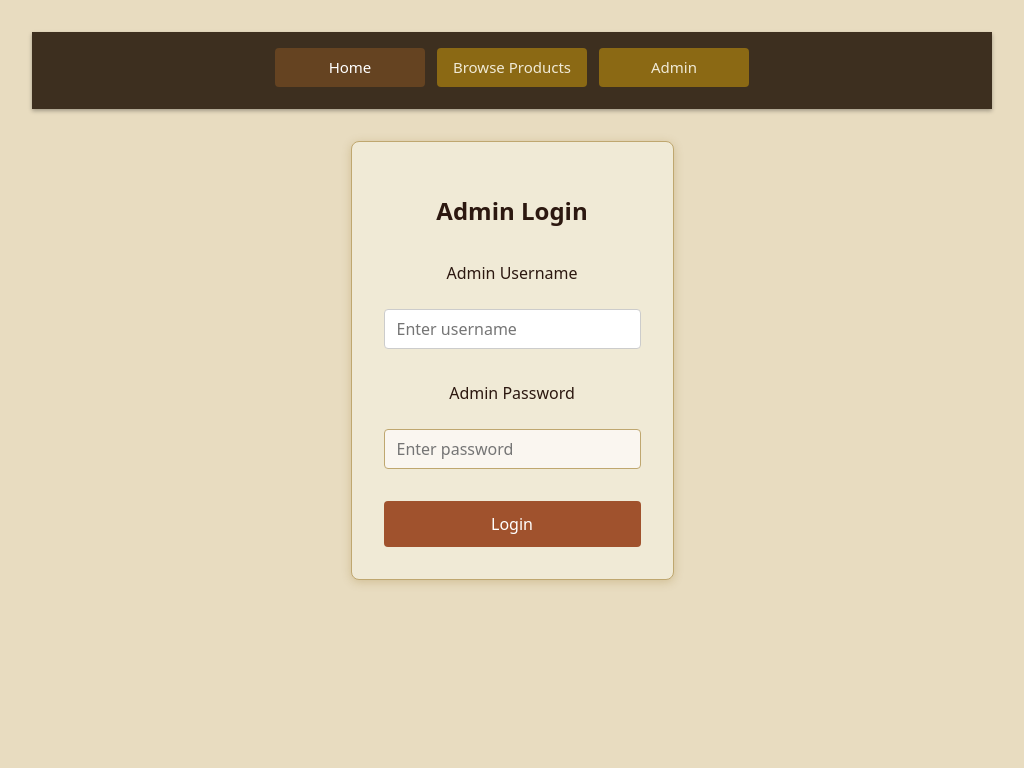
it: Admin Login › should logout and redirect to home page
This screenshot has width=1024, height=768.
Type "admin" into the field with placeholder "Enter username" at x=512, y=329, box [384,309,640,349]
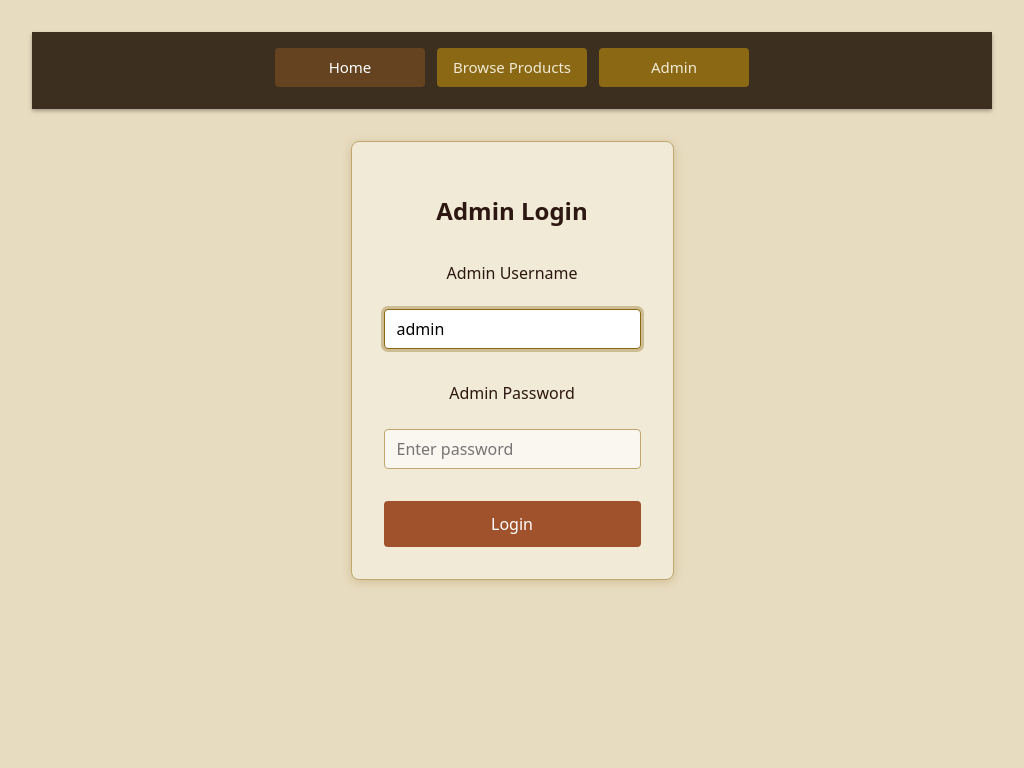
Type "password123" into the password field with placeholder "Enter password" at x=512, y=449, box [384,429,640,469]
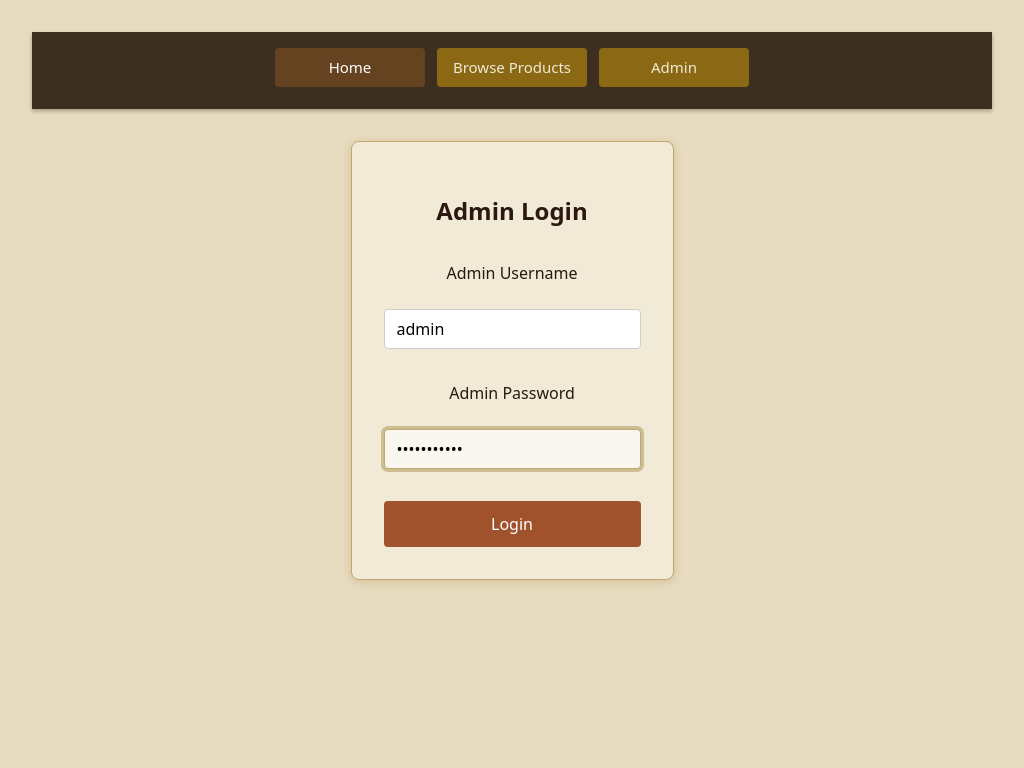
Click the button "Login" at x=512, y=524, box [384,501,640,547]
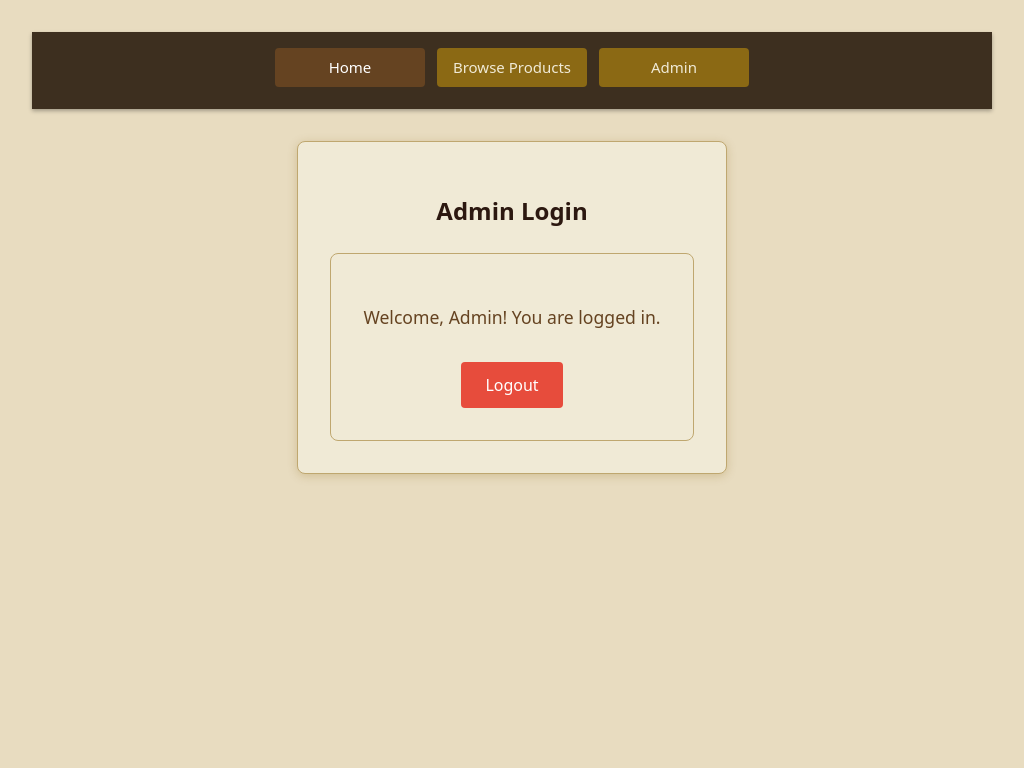
Result: the button "Logout" is shown
Note: Click logout
Click the button "Logout" at x=512, y=385, box [461,362,563,408]
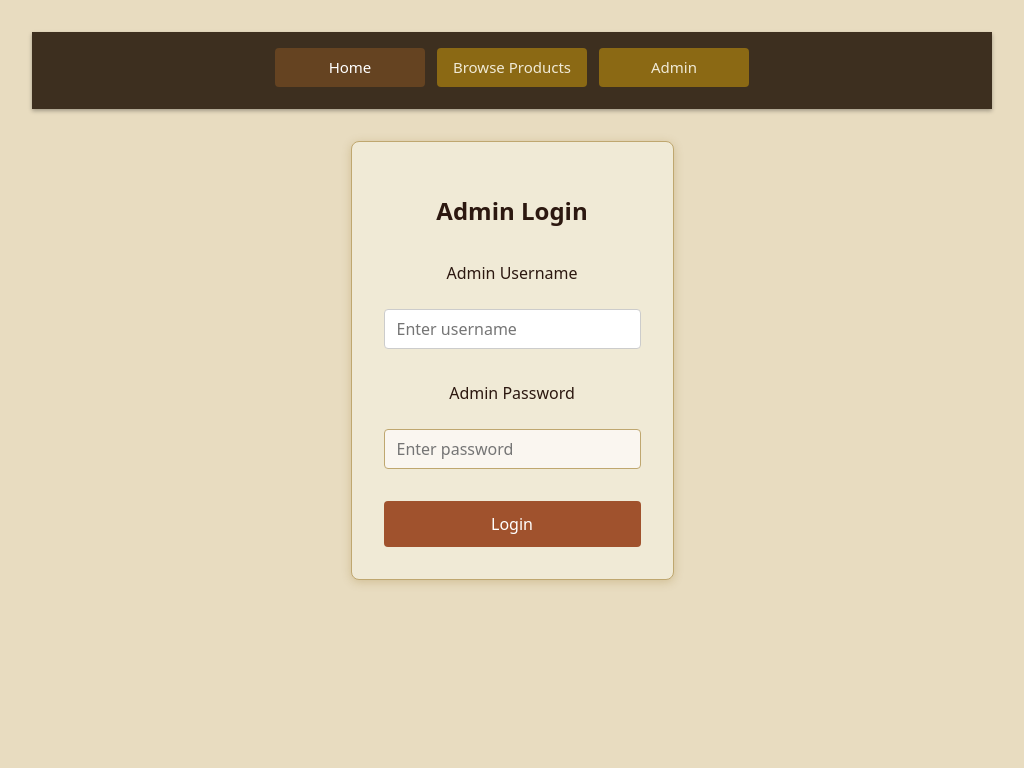
Result: the field with placeholder "Enter username" is shown at [384,309,640,349]
